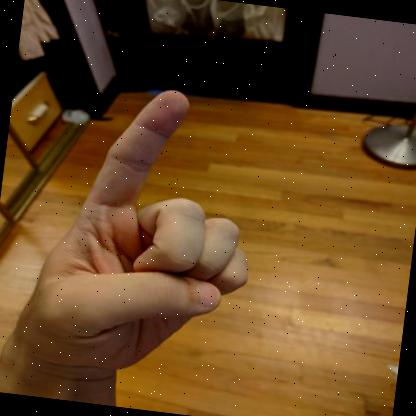D: (2, 90, 247, 374)
